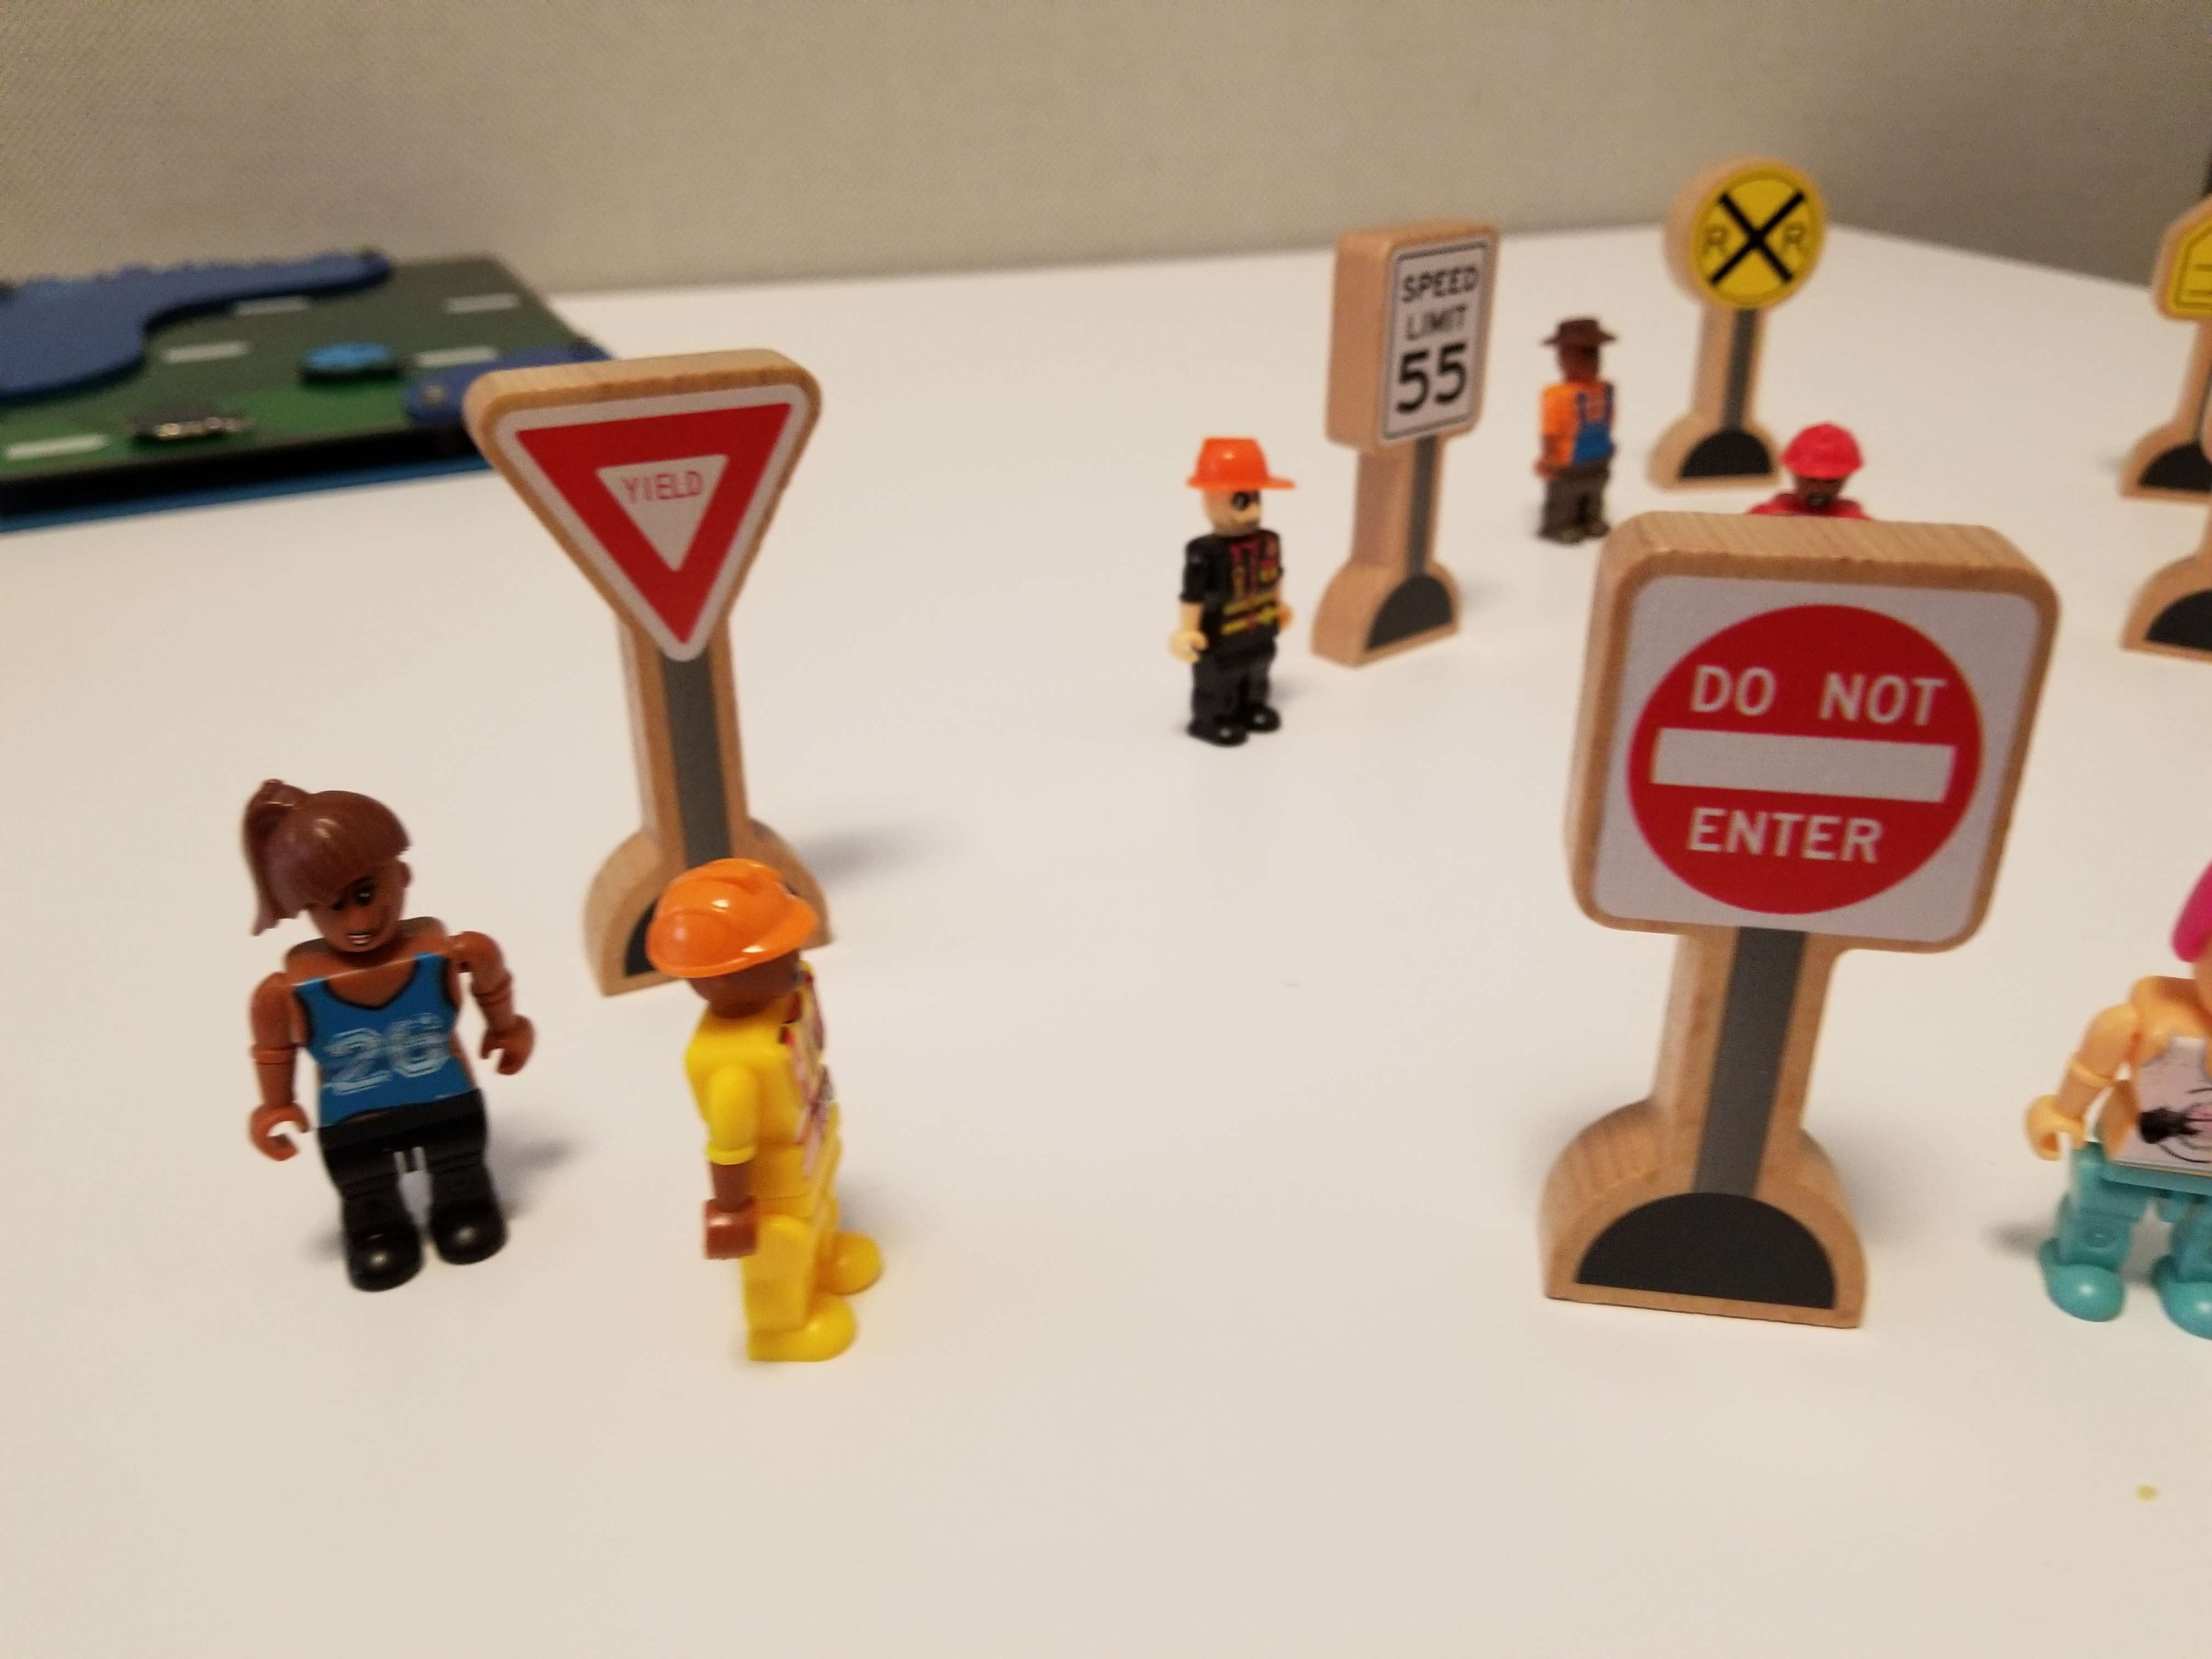Do not enter: (1535, 473, 2020, 1443)
Railroad Crossing: (1667, 111, 1827, 440)
Speed limit 55: (1338, 207, 1515, 668)
Yield: (471, 357, 859, 756)
person: (205, 774, 572, 1324), (627, 859, 932, 1456), (2075, 774, 2209, 1498), (1149, 381, 1311, 780), (1537, 297, 1636, 532)
